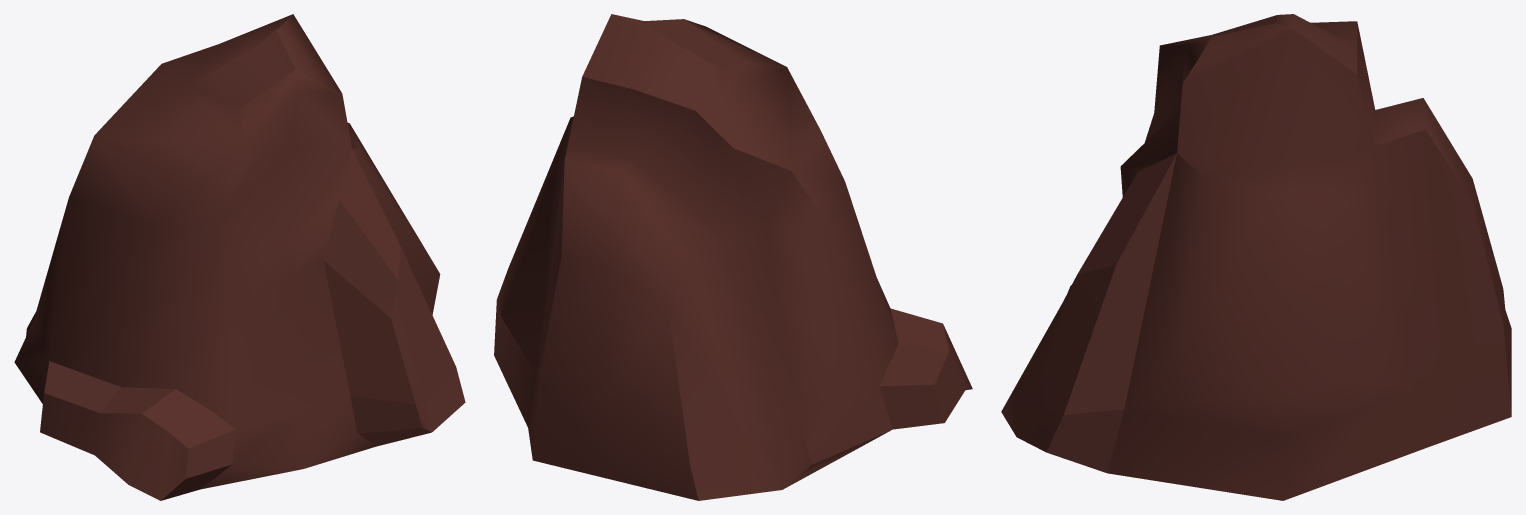
File: SM_rock_complex_B.fbx
The picture shows the model from 3 angles, left to right: view 1: azimuth 30°, elevation 25°; view 2: azimuth 150°, elevation 25°; view 3: azimuth 270°, elevation 25°; orthographic projection. The views are drawn at different scales.
Parts seen in each view (by area): view 1: polySurface2; view 2: polySurface2; view 3: polySurface2.
Part boxes in pixels (x1=…): polySurface2: x1=14, y1=14, x2=465, y2=500; polySurface2: x1=494, y1=14, x2=972, y2=500; polySurface2: x1=1001, y1=14, x2=1511, y2=500.
Size of the model in its own units: 349 by 307 by 334.
